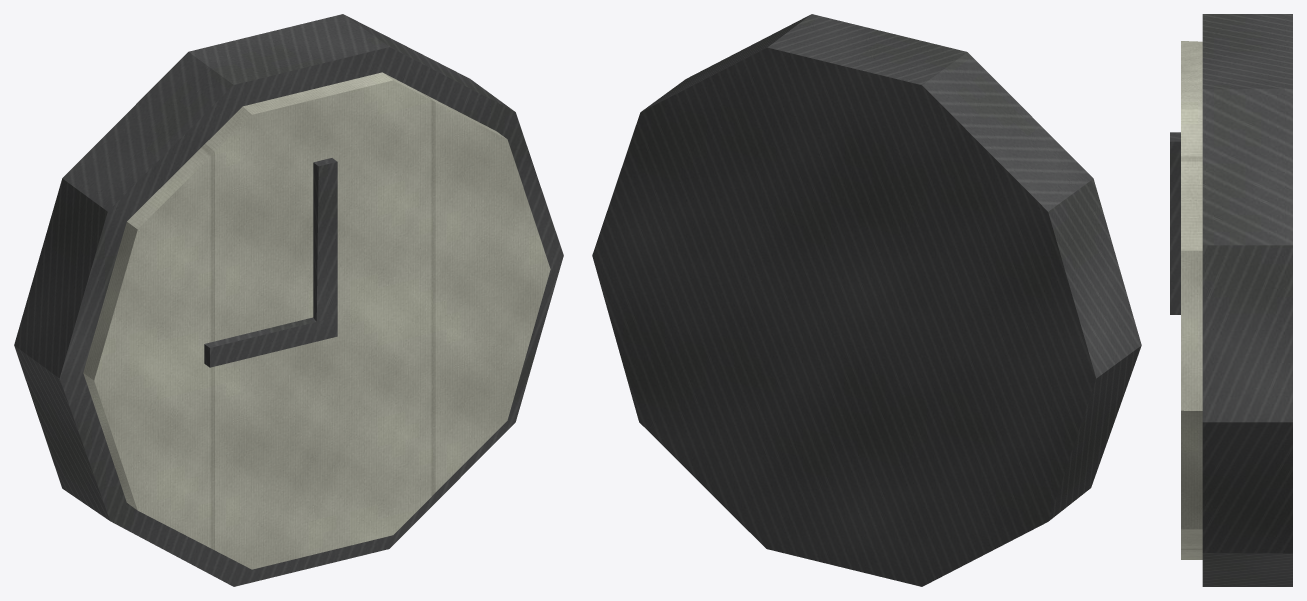
Rendered from wallclock_v3.glb.
3 views of the same model, side by side, from view 1: azimuth 30°, elevation 25°; view 2: azimuth 150°, elevation 25°; view 3: azimuth 270°, elevation 25° (orthographic).
Parts seen in each view (by area): view 1: Variant_wallclock_3; view 2: Variant_wallclock_3; view 3: Variant_wallclock_3.
Part boxes in pixels (x1=…): Variant_wallclock_3: x1=14, y1=14, x2=563, y2=586; Variant_wallclock_3: x1=592, y1=14, x2=1141, y2=586; Variant_wallclock_3: x1=1170, y1=14, x2=1292, y2=586.
Bounding box in the file's own units: 0.32 × 0.3043 × 0.068.
2 materials, 2 textured.
